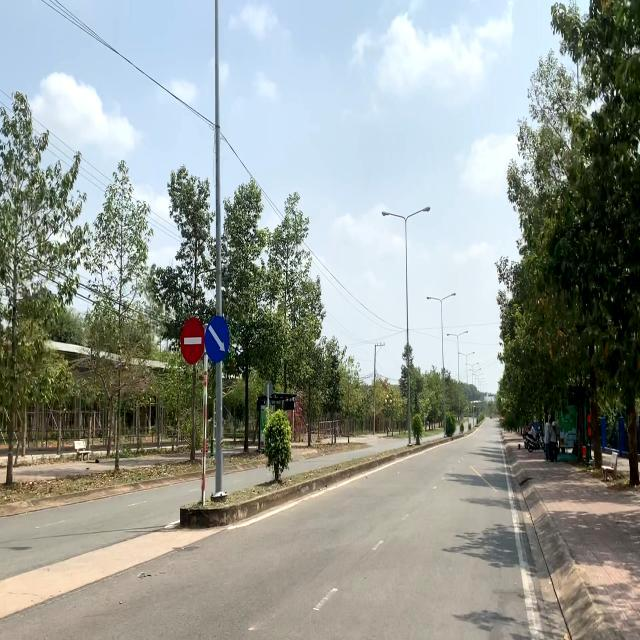Cam di nguoc chieu: (180, 316, 205, 366)
Vong chuong ngai vat sang phai: (204, 314, 230, 364)
